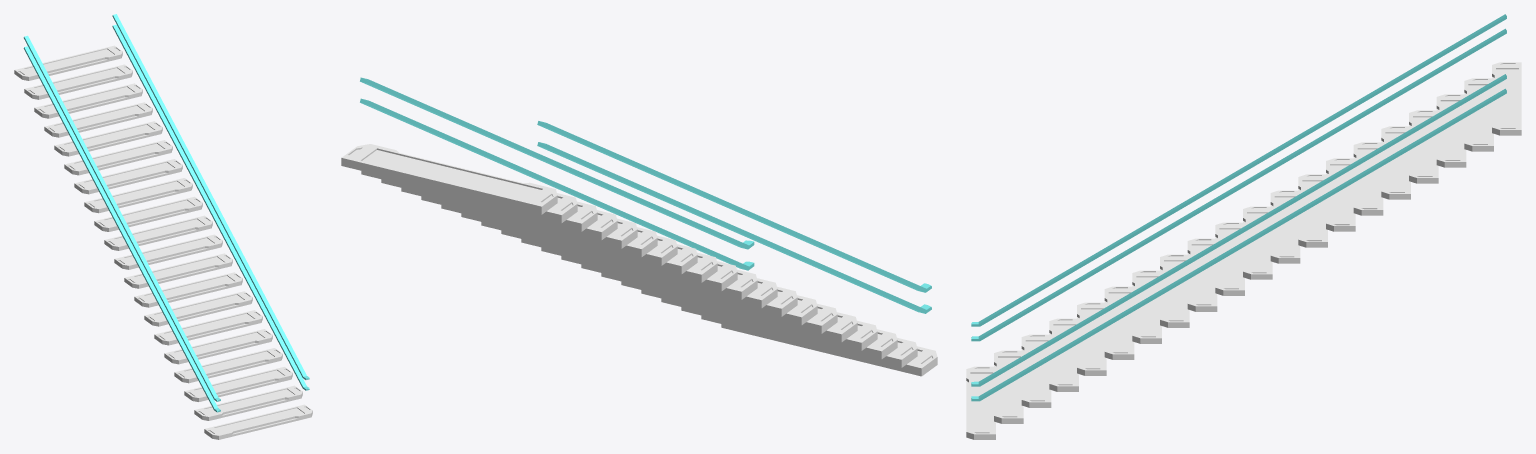
Rendered from Hangar_HoverStairs_01.fbx.
3 views of the same model, side by side, from view 1: azimuth 30°, elevation 25°; view 2: azimuth 150°, elevation 25°; view 3: azimuth 270°, elevation 25° (orthographic). The views are drawn at different scales.
Parts seen in each view (by area): view 1: HoverStairs_01; view 2: HoverStairs_01; view 3: HoverStairs_01.
Part boxes in pixels (x1,y1,x2,y2): HoverStairs_01: (14,14,312,439); HoverStairs_01: (341,77,937,376); HoverStairs_01: (966,14,1521,439).
Bounding box in the file's own units: 227 × 564 × 787.
